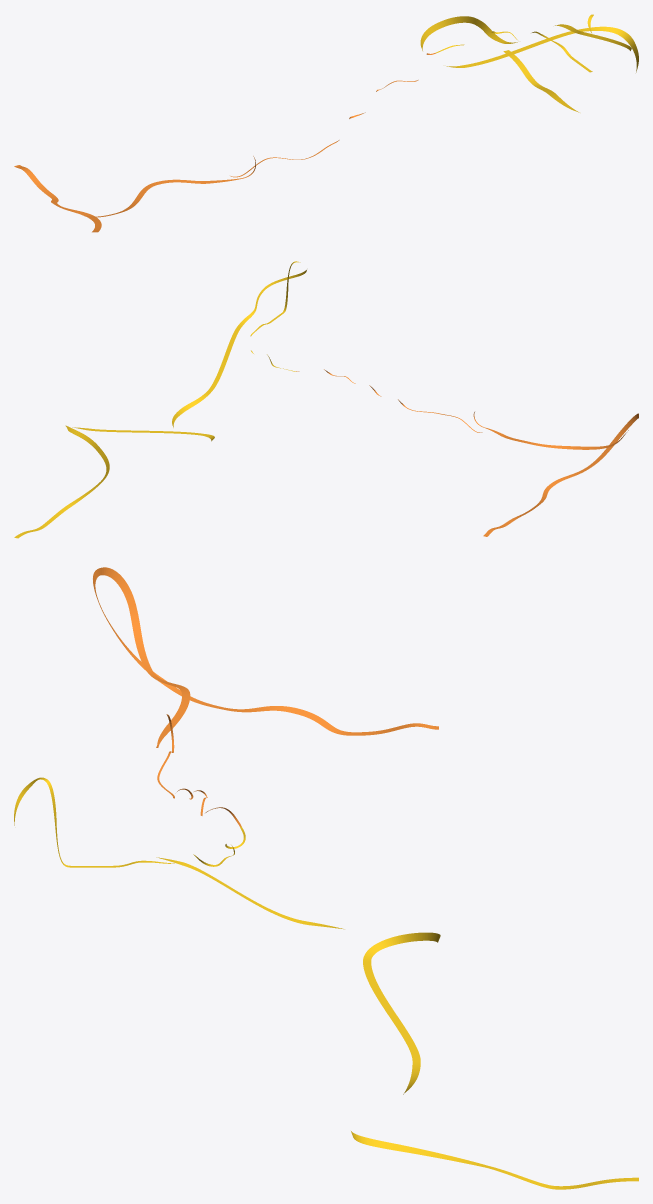
File: SkyRoad04.gltf
3 renders of one model, top to bottom at view 1: azimuth 30°, elevation 25°; view 2: azimuth 150°, elevation 25°; view 3: azimuth 270°, elevation 25°, orthographic. The views are drawn at different scales.
Parts seen in each view (by area): view 1: SkyRoad04; view 2: SkyRoad04; view 3: SkyRoad04.
Boxes of the visible parts, x1,y1,x2,y2 form: SkyRoad04: (14, 14, 638, 232); SkyRoad04: (14, 261, 638, 538); SkyRoad04: (14, 567, 638, 1189).
Bounding box in the file's own units: 477 × 170 × 303.
